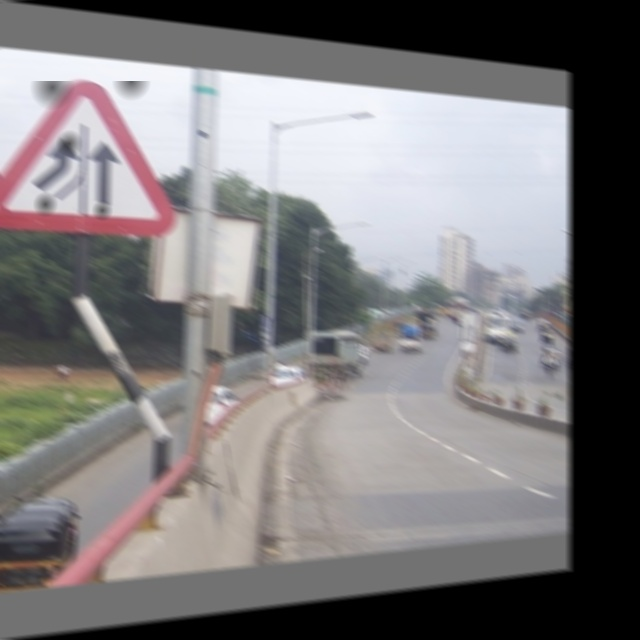Merge_Traffic_Ahead: (14, 81, 173, 237)
